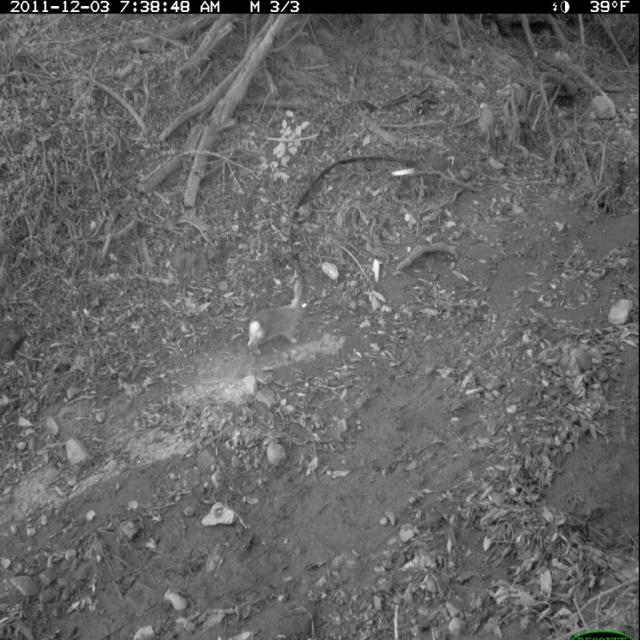rabbit: (247, 274, 314, 359)
